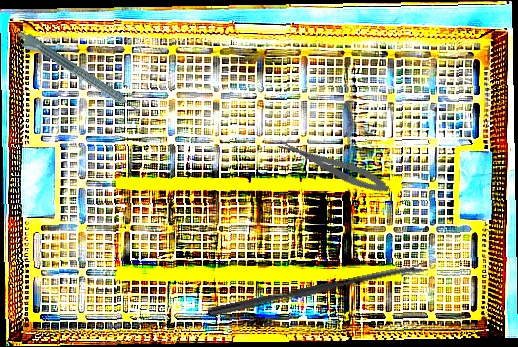Handpiece: (12, 28, 143, 121)
Micro Scissor: (276, 132, 392, 200)
Surgical Spoon: (207, 261, 429, 319)
